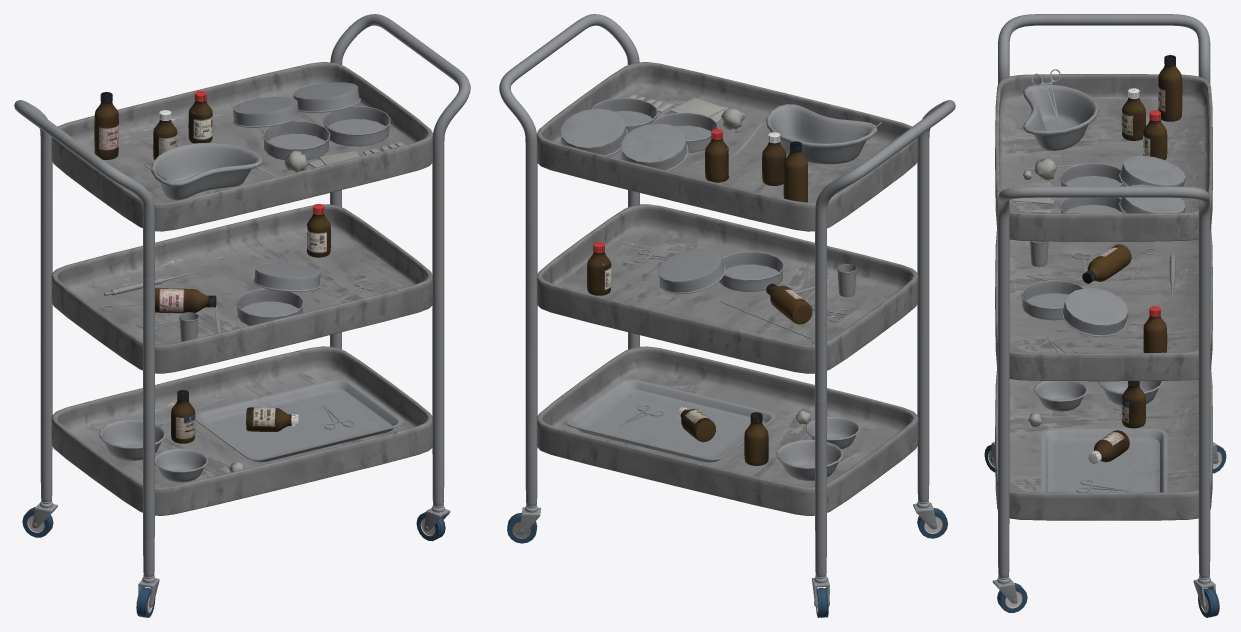
The model's file is ship-medical_props.glb.
3 views of the same model, side by side, from view 1: azimuth 30°, elevation 25°; view 2: azimuth 150°, elevation 25°; view 3: azimuth 270°, elevation 25° (orthographic).
Parts seen in each view (by area): view 1: Circle.007_Medical_Props_Surgical_Cart_0, prop, prop_prop_0.001; view 2: Circle.007_Medical_Props_Surgical_Cart_0, prop, prop_prop_0.001; view 3: Circle.007_Medical_Props_Surgical_Cart_0, prop, prop_prop_0.001.
Boxes of the visible parts, x1,y1,x2,y2 form: Circle.007_Medical_Props_Surgical_Cart_0: [14, 14, 470, 617]; prop: [94, 82, 404, 482]; prop_prop_0.001: [307, 204, 330, 252]; Circle.007_Medical_Props_Surgical_Cart_0: [499, 14, 955, 617]; prop: [560, 94, 881, 480]; prop_prop_0.001: [587, 242, 611, 290]; Circle.007_Medical_Props_Surgical_Cart_0: [984, 14, 1226, 617]; prop: [1012, 55, 1185, 492]; prop_prop_0.001: [1143, 306, 1167, 352].
Size of the model in its own units: 0.8584 by 1 by 0.4956.
Materials: 2 (2 with a texture image).
